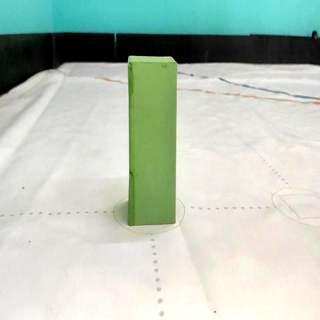greenbox: (126, 54, 180, 226)
